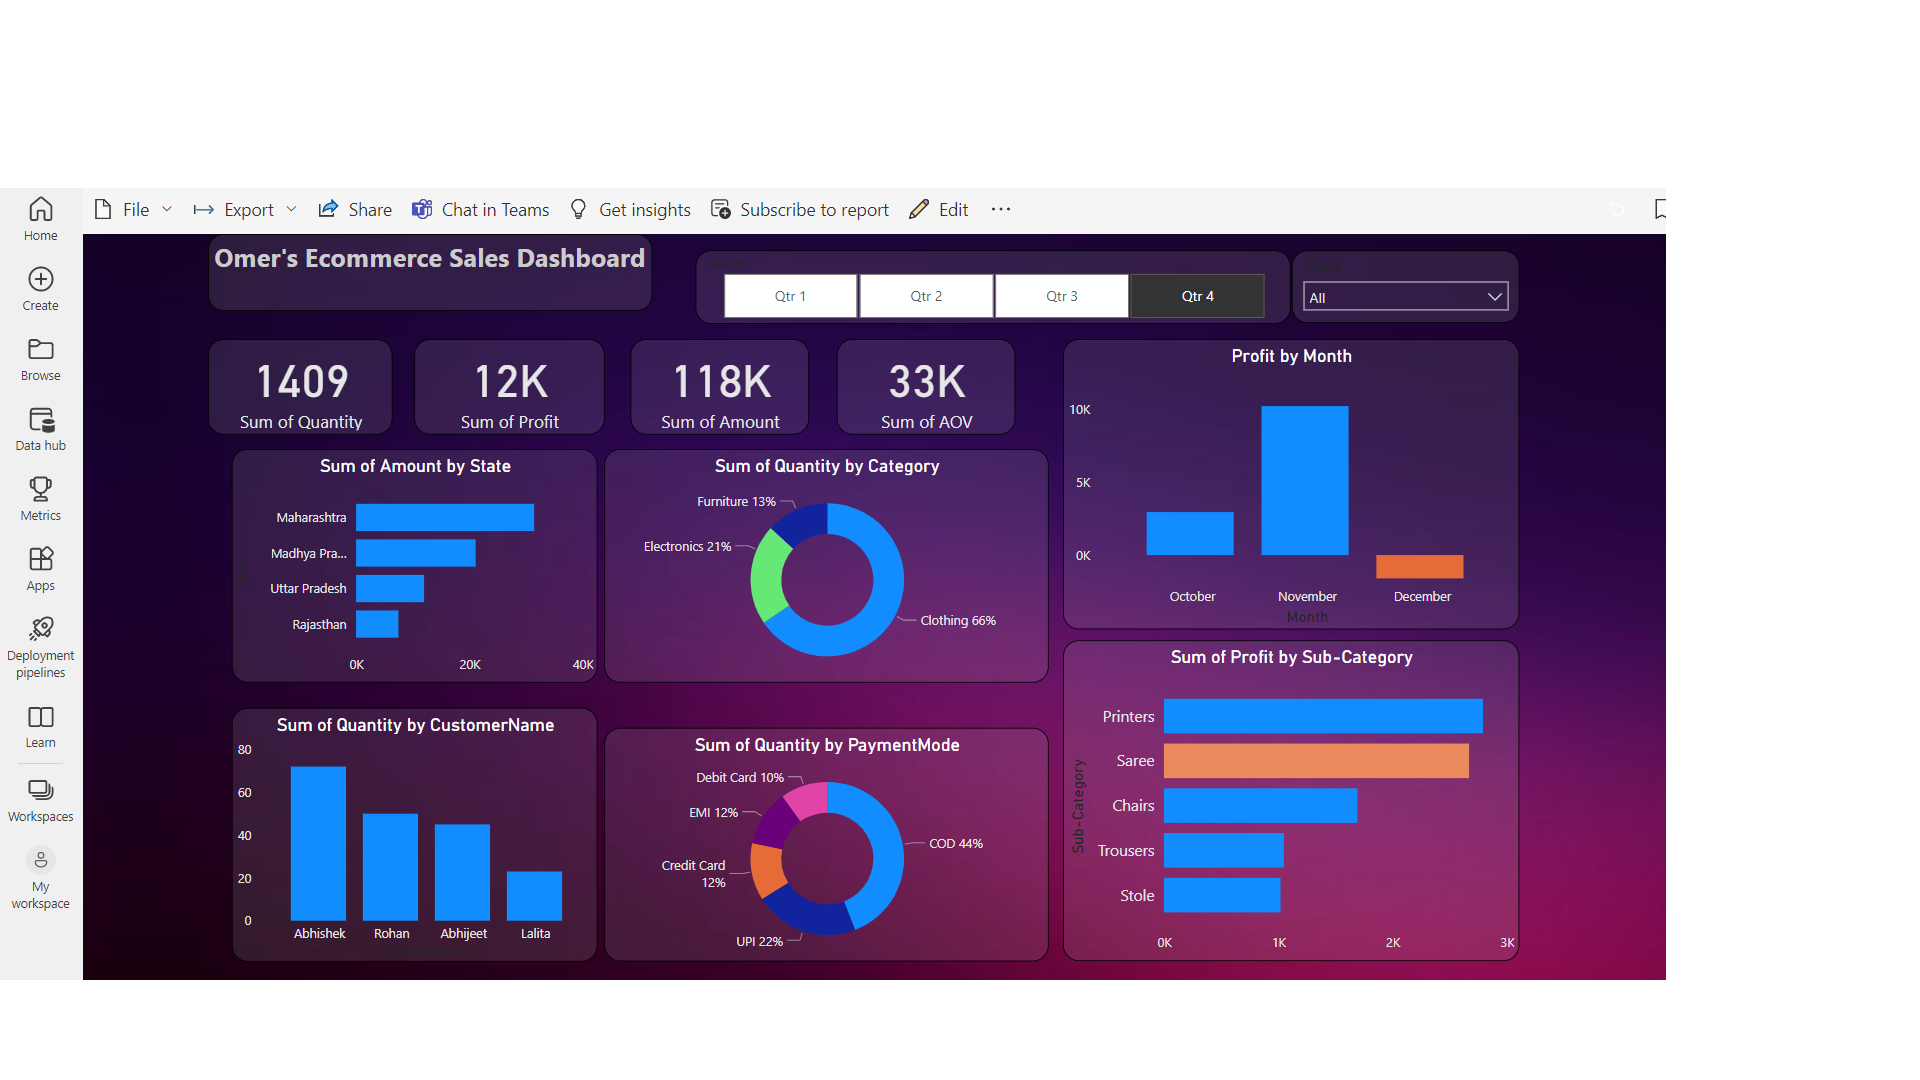

The dashboard page shown, as its layout file describes it:
{"tool":"powerbi","page":{"name":"Page 1","canvas":[1280,720],"ordinal":0},"visuals":[{"type":"textbox","box":[9.6,0,419.9,72.7],"z":0},{"type":"columnChart","title":"Profit by Month","fields":{"Category":["Orders.Order Date.Variation.Date Hierarchy.Month"],"Y":["Details.Profit"]},"box":[817.8,98.8,430.9,274.4],"z":1000},{"type":"barChart","fields":{"Category":["Details.Sub-Category"],"Y":["Details.Profit"]},"box":[817.8,384.2,430.9,303.3],"z":2000},{"type":"donutChart","fields":{"Y":["Details.Quantity"],"Category":["Details.PaymentMode"]},"box":[384.2,466.6,419.9,220.9],"z":3000},{"type":"donutChart","fields":{"Category":["Details.Category"],"Y":["Details.Quantity"]},"box":[384.2,203.1,419.9,220.9],"z":4000},{"type":"card","fields":{"Values":["Details.Quantity"]},"box":[9.6,98.8,174.3,90.6],"z":5000},{"type":"card","fields":{"Values":["Details.Amount"]},"box":[408.9,98.8,168.8,90.6],"z":6000},{"type":"card","fields":{"Values":["Details.Profit"]},"box":[204.5,98.8,179.8,90.6],"z":7000},{"type":"card","fields":{"Values":["Details.AOV"]},"box":[603.8,98.8,168.8,90.6],"z":8000},{"type":"barChart","fields":{"Category":["Orders.State"],"Y":["Details.Amount"]},"box":[31.6,203.1,345.8,220.9],"z":9000},{"type":"columnChart","fields":{"Category":["Orders.CustomerName"],"Y":["Details.Quantity"]},"box":[31.6,447.3,345.8,240.1],"z":9001},{"type":"slicer","fields":{"Values":["Orders.Order Date.Variation.Date Hierarchy.Quarter"]},"box":[470.7,15.1,562.6,70],"z":9002},{"type":"slicer","fields":{"Values":["Orders.State"]},"box":[1033.3,15.1,215.4,68.6],"z":9003}]}

Visuals, with their boxes on the page's 1280x720 design canvas (x1, y1, x2, y2). These are canvas units, not pixel positions in the 1920x1080 screenshot, which may show the page scaled, cropped or inside an application window:
textbox: detection(10, 0, 430, 73)
"Profit by Month" columnChart: detection(818, 99, 1249, 373)
barChart - Details.Sub-Category x Details.Profit: detection(818, 384, 1249, 688)
donutChart - Details.Quantity x Details.PaymentMode: detection(384, 467, 804, 688)
donutChart - Details.Category x Details.Quantity: detection(384, 203, 804, 424)
card - Details.Quantity: detection(10, 99, 184, 189)
card - Details.Amount: detection(409, 99, 578, 189)
card - Details.Profit: detection(204, 99, 384, 189)
card - Details.AOV: detection(604, 99, 773, 189)
barChart - Orders.State x Details.Amount: detection(32, 203, 377, 424)
columnChart - Orders.CustomerName x Details.Quantity: detection(32, 447, 377, 687)
slicer - Orders.Order Date.Variation.Date Hierarchy.Quarter: detection(471, 15, 1033, 85)
slicer - Orders.State: detection(1033, 15, 1249, 84)
